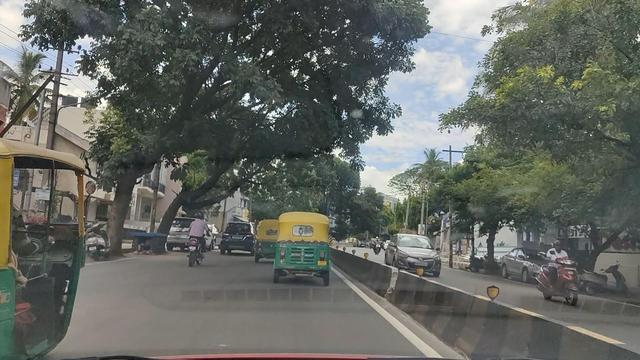LMV: (1, 139, 80, 359), (276, 211, 328, 285), (185, 213, 214, 269), (223, 218, 254, 257), (257, 218, 280, 261)
